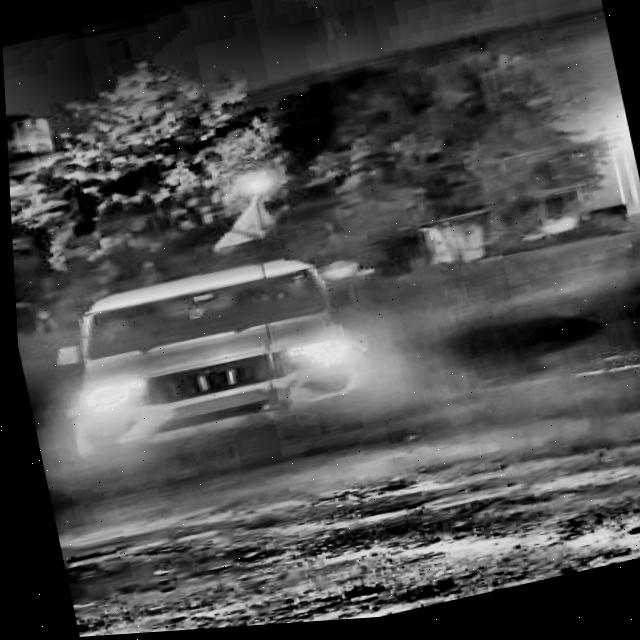light_vehicle: (45, 252, 376, 477)
